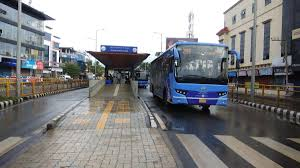Chigari: (149, 44, 241, 112), (137, 69, 148, 88)
